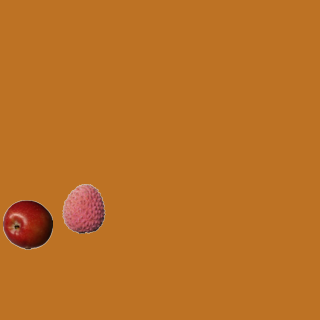Apple Braeburn: (2, 199, 52, 249)
Lychee: (58, 183, 108, 233)
